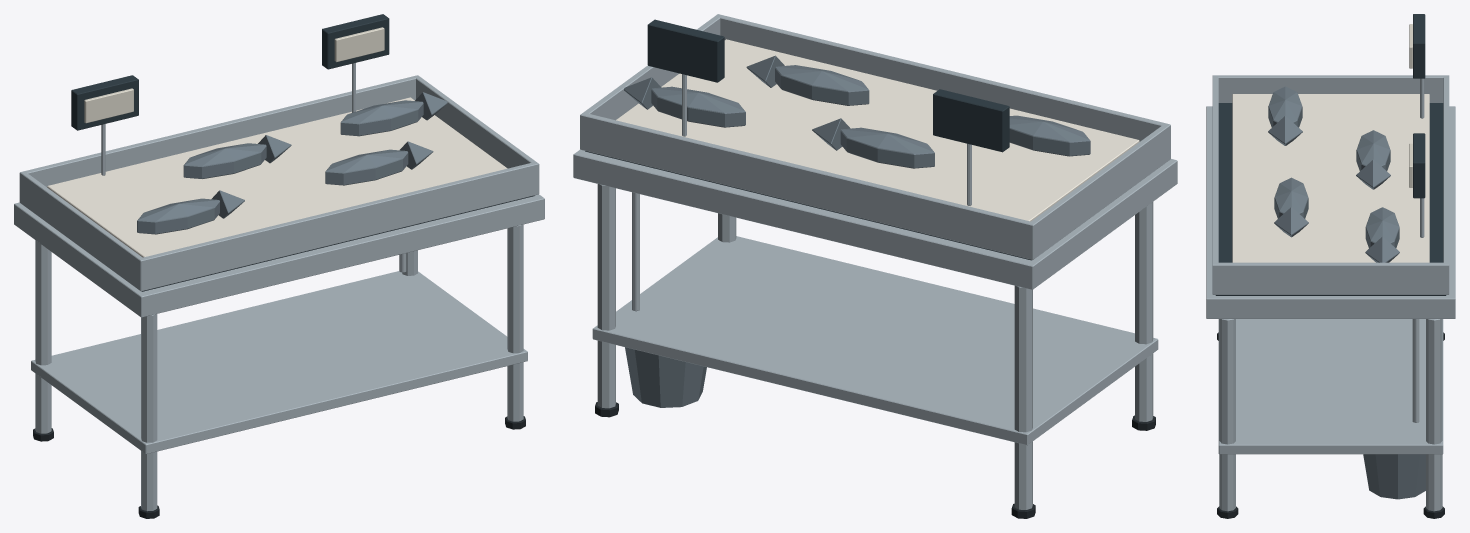
File: b10_seafood_crushed_ice_display_table.glb
The picture shows the model from 3 angles, left to right: view 1: azimuth 30°, elevation 25°; view 2: azimuth 150°, elevation 25°; view 3: azimuth 270°, elevation 25°; orthographic projection. The views are drawn at different scales.
Visible parts, largest first — view 1: b10_seafood_crushed_ice_display_table; view 2: b10_seafood_crushed_ice_display_table; view 3: b10_seafood_crushed_ice_display_table.
Part boxes in pixels (x1,y1,x2,y2): b10_seafood_crushed_ice_display_table: [14, 14, 544, 518]; b10_seafood_crushed_ice_display_table: [573, 14, 1177, 518]; b10_seafood_crushed_ice_display_table: [1206, 14, 1455, 518].
Size of the model in its own units: 1.5 by 1.23 by 0.82.
